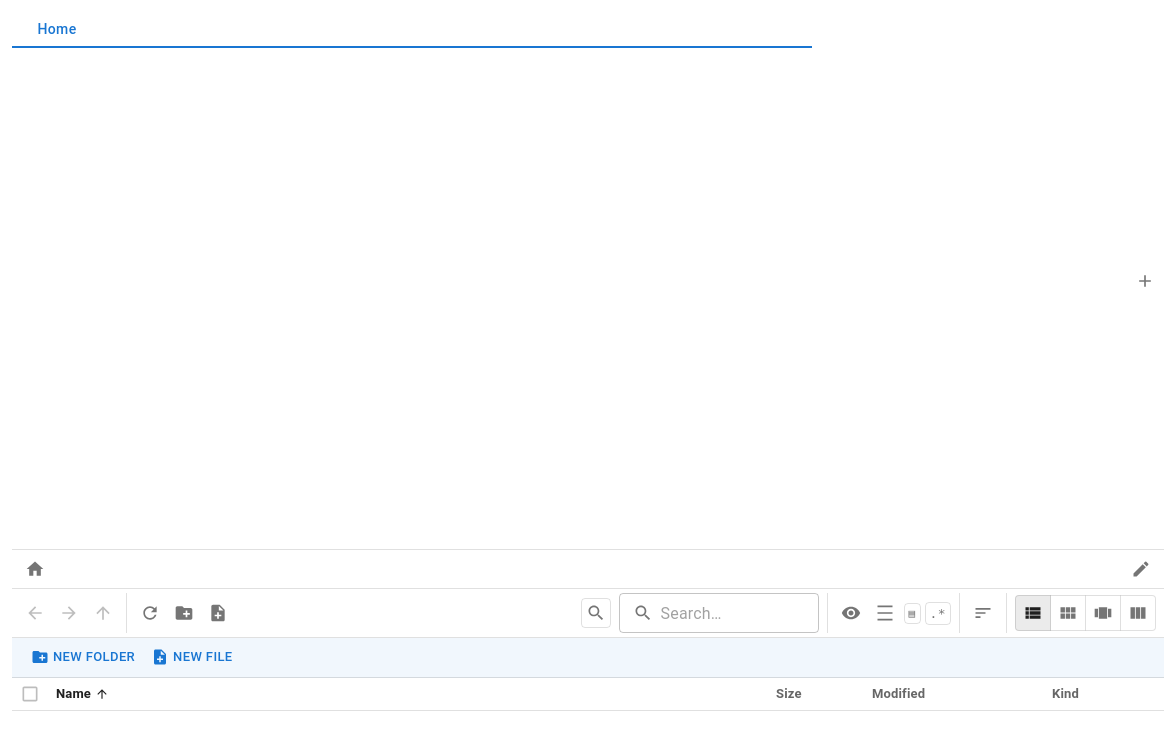
Test: BrowserTabs — extras › right-click on a tab opens the tab context menu
Right-click the tab "Home".
right_click(57, 30)  # box [12, 12, 102, 48]
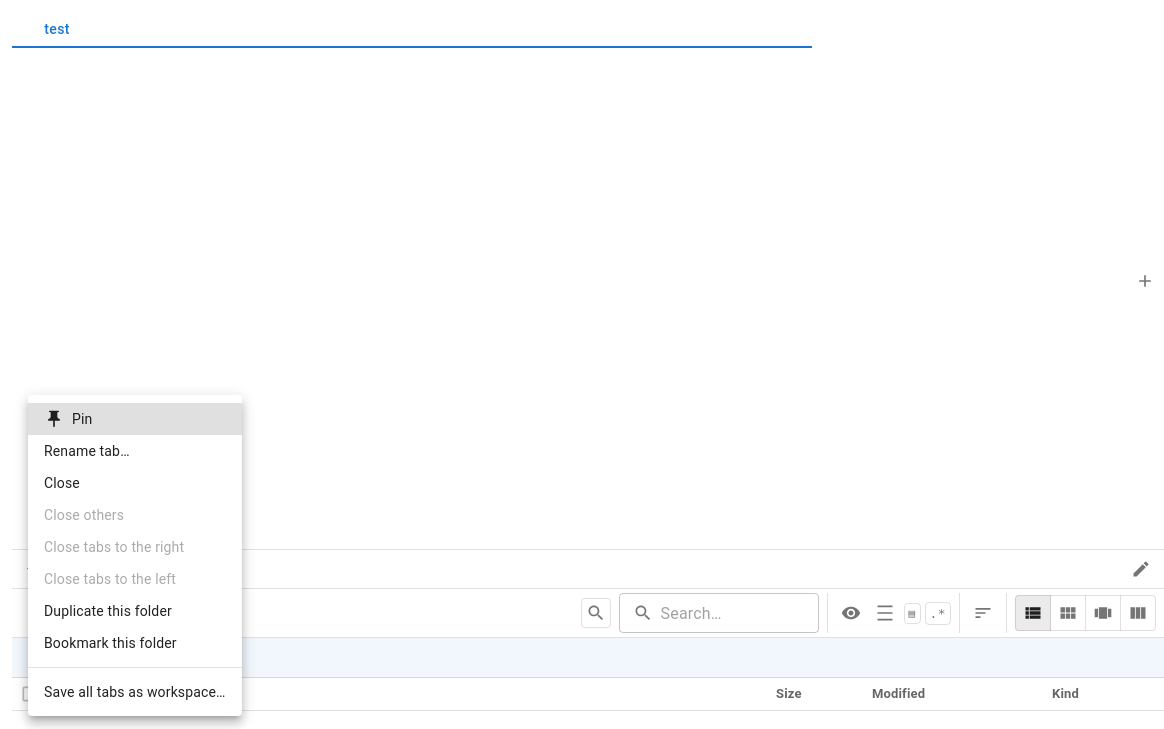
Expected: the menu item "Pin" is shown, [28, 403, 242, 435]
